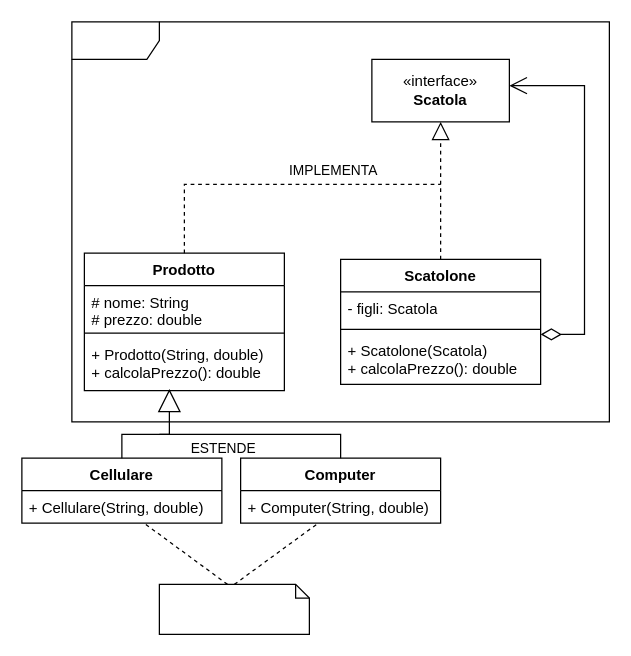
This 631x656 diagram has some shape labels left out. Each missing label, with the box of its shape:
Composite: (71, 21, 609, 422)
super(String, double): (158, 583, 309, 634)
